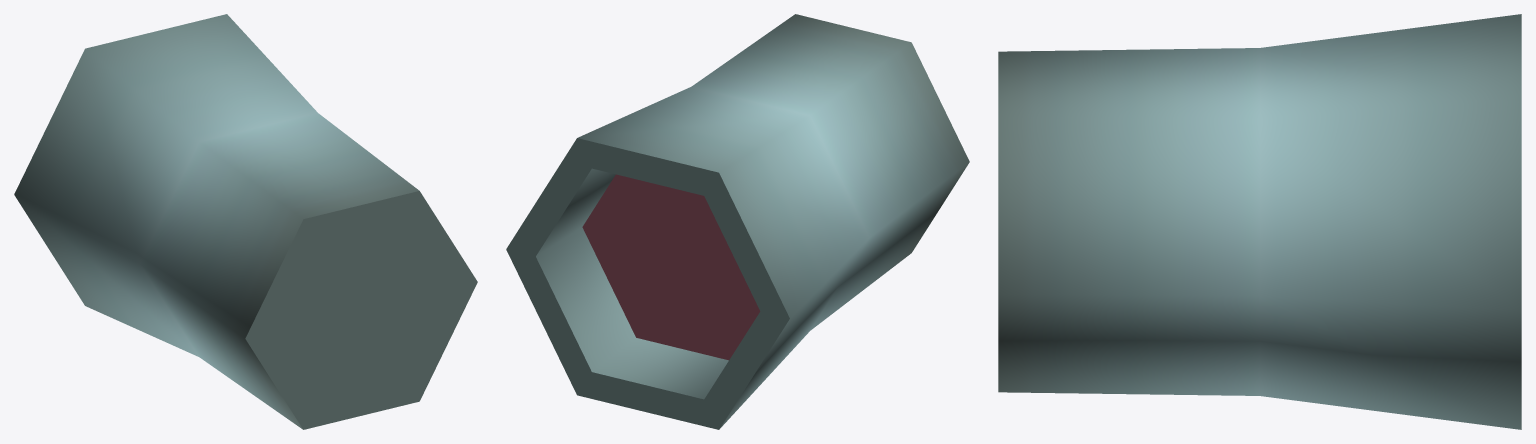
File: Glass_C.fbx
The picture shows the model from 3 angles, left to right: view 1: azimuth 30°, elevation 25°; view 2: azimuth 150°, elevation 25°; view 3: azimuth 270°, elevation 25°; orthographic projection. The views are drawn at different scales.
Parts seen in each view (by area): view 1: Glass_C; view 2: Glass_C; view 3: Glass_C.
Boxes of the visible parts, <box> form: Glass_C: <box>14,14,477,429</box>; Glass_C: <box>506,14,969,429</box>; Glass_C: <box>998,14,1521,429</box>.
Bounding box in the file's own units: 0.2468 × 0.2138 × 0.3095.
